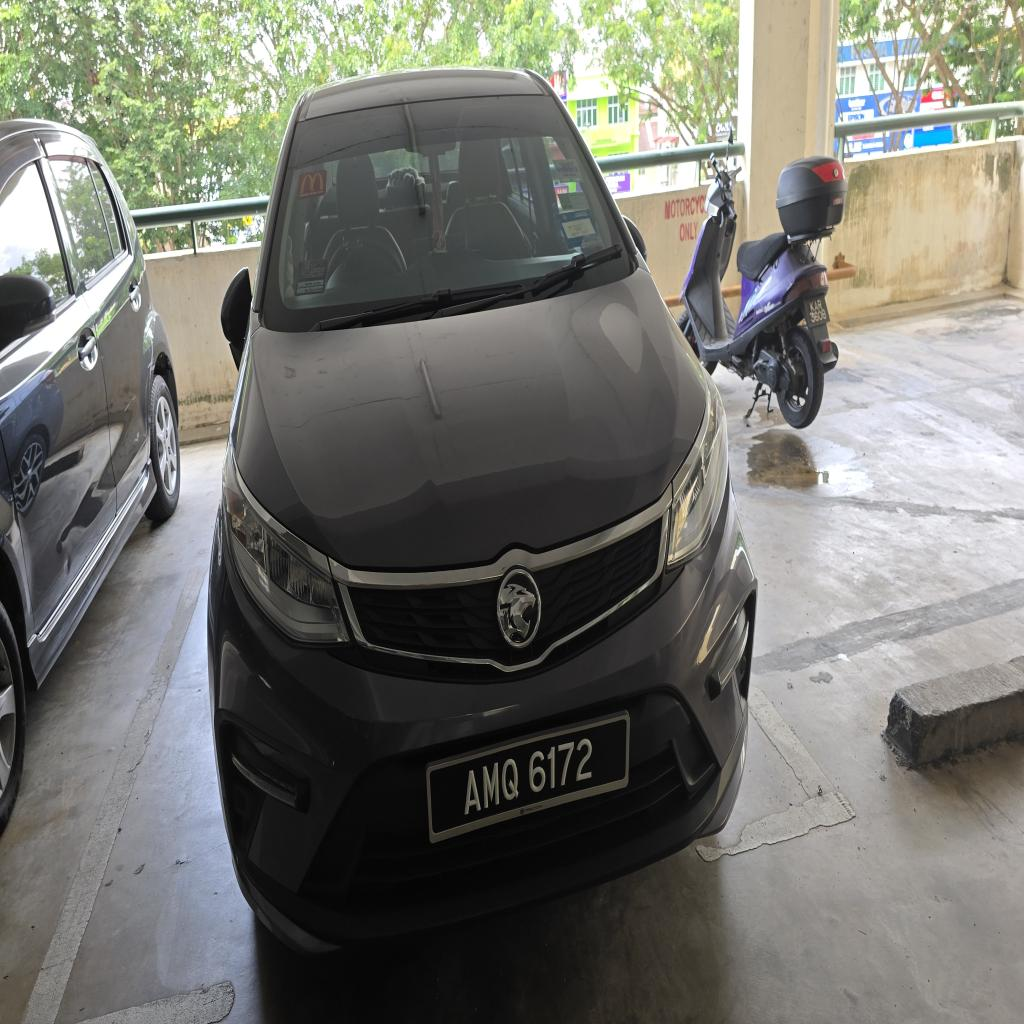car: (209, 70, 756, 951)
car plate: (427, 713, 629, 842)
